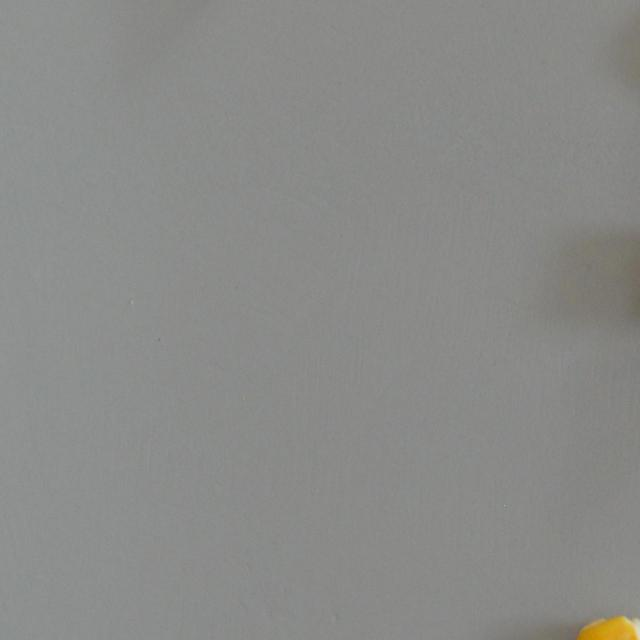pelicula: (566, 612, 640, 640)
